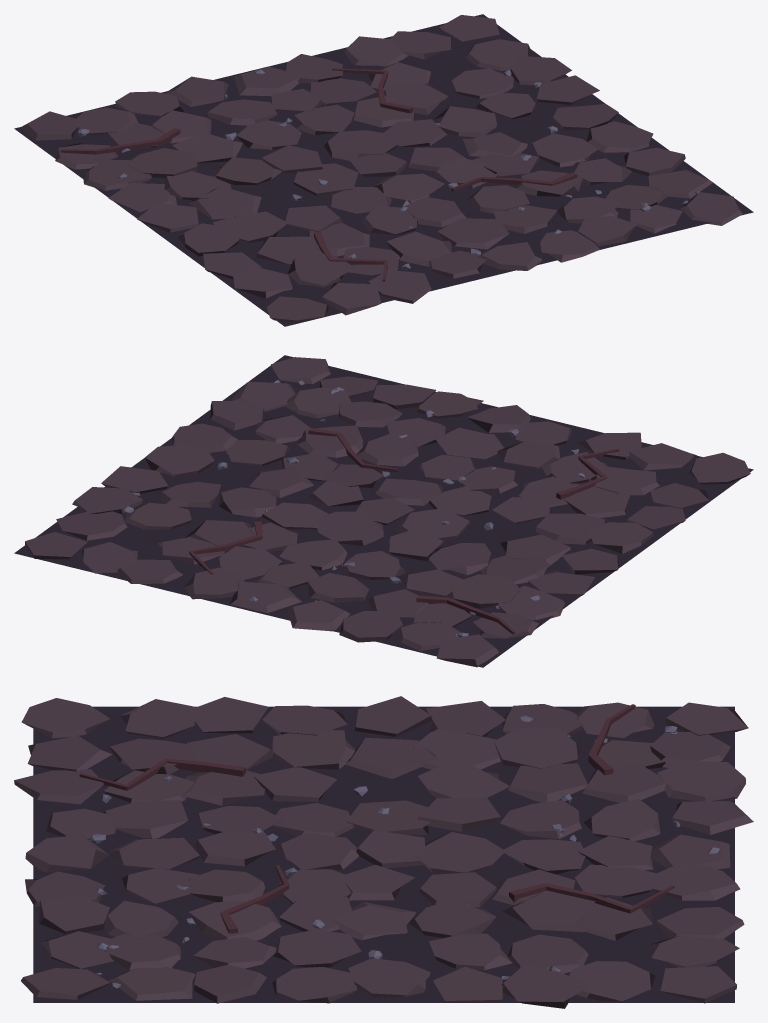
The model's file is CM_ENV_GroundTile.fbx.
3 renders of one model, top to bottom at view 1: azimuth 30°, elevation 25°; view 2: azimuth 150°, elevation 25°; view 3: azimuth 270°, elevation 25°, orthographic. The views are drawn at different scales.
Visible parts, largest first — view 1: CM_ENV_GroundTile; view 2: CM_ENV_GroundTile; view 3: CM_ENV_GroundTile.
Boxes of the visible parts, <box> form: CM_ENV_GroundTile: <box>14,14,753,326</box>; CM_ENV_GroundTile: <box>14,355,753,667</box>; CM_ENV_GroundTile: <box>14,696,753,1008</box>.
Size of the model in its own units: 12.35 by 0.2248 by 12.66.
